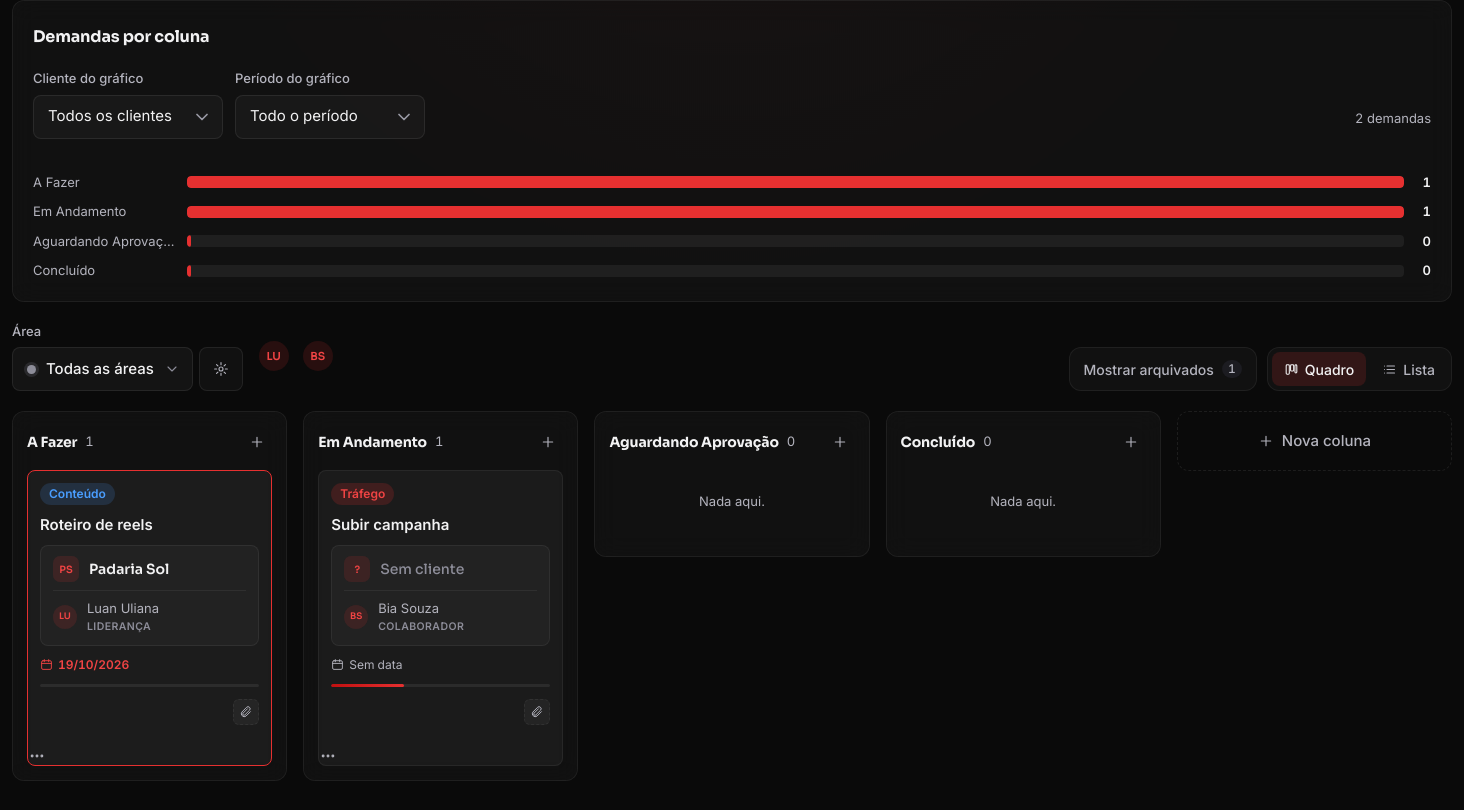
Test: DemandasPage › filtra por tipo e por responsável
Expected: the text "Roteiro de reels" is shown, [40,515,153,534]
What coordinates should you click on to do the following:
click the dropdown labelled "Todas as áreas"
I would click on:
 (102, 369)
Its box is [12,347,193,391].
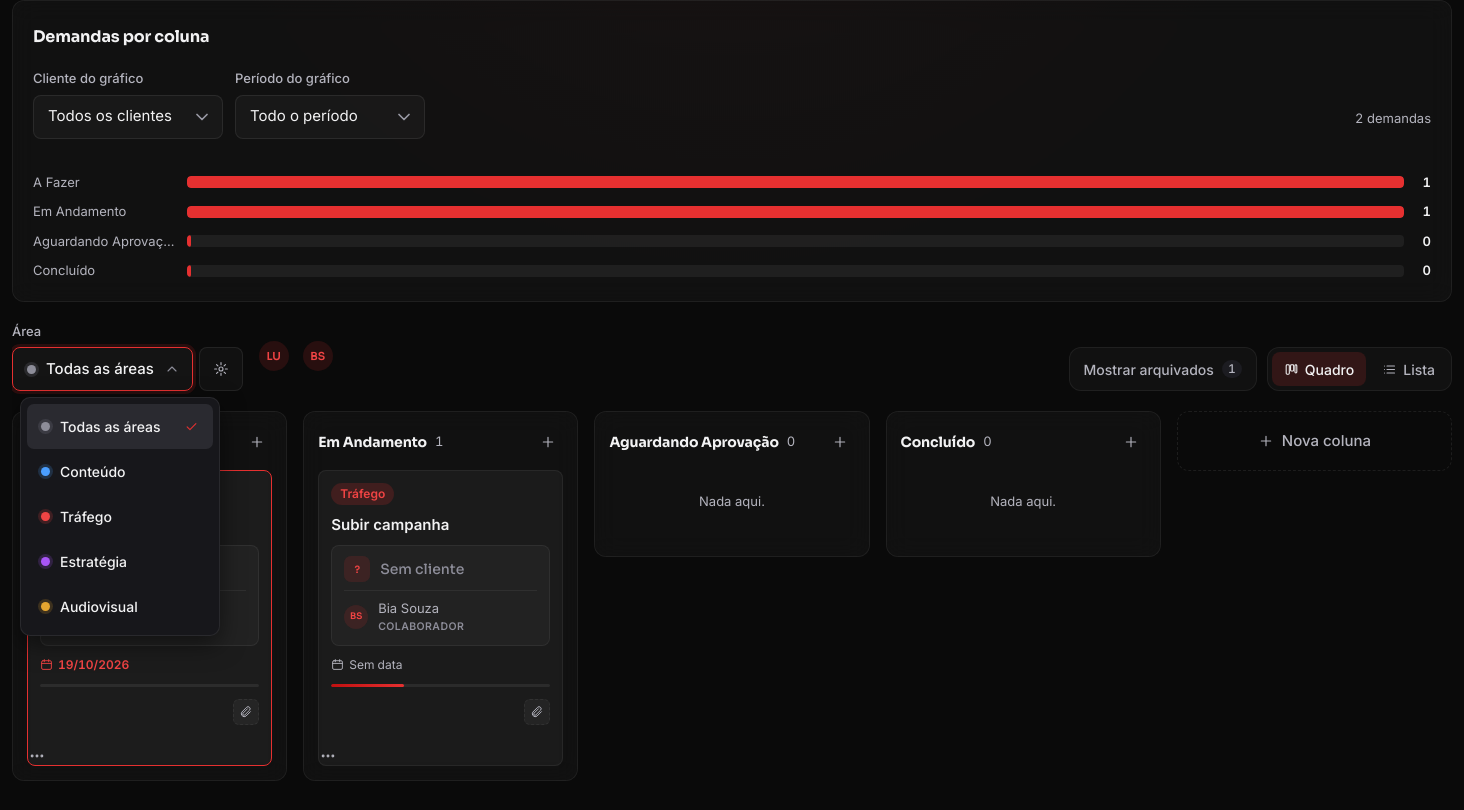
What coordinates should you click on to do the following:
click the option "Tráfego"
I would click on:
 (76, 516)
Its box is [41,508,112,525].
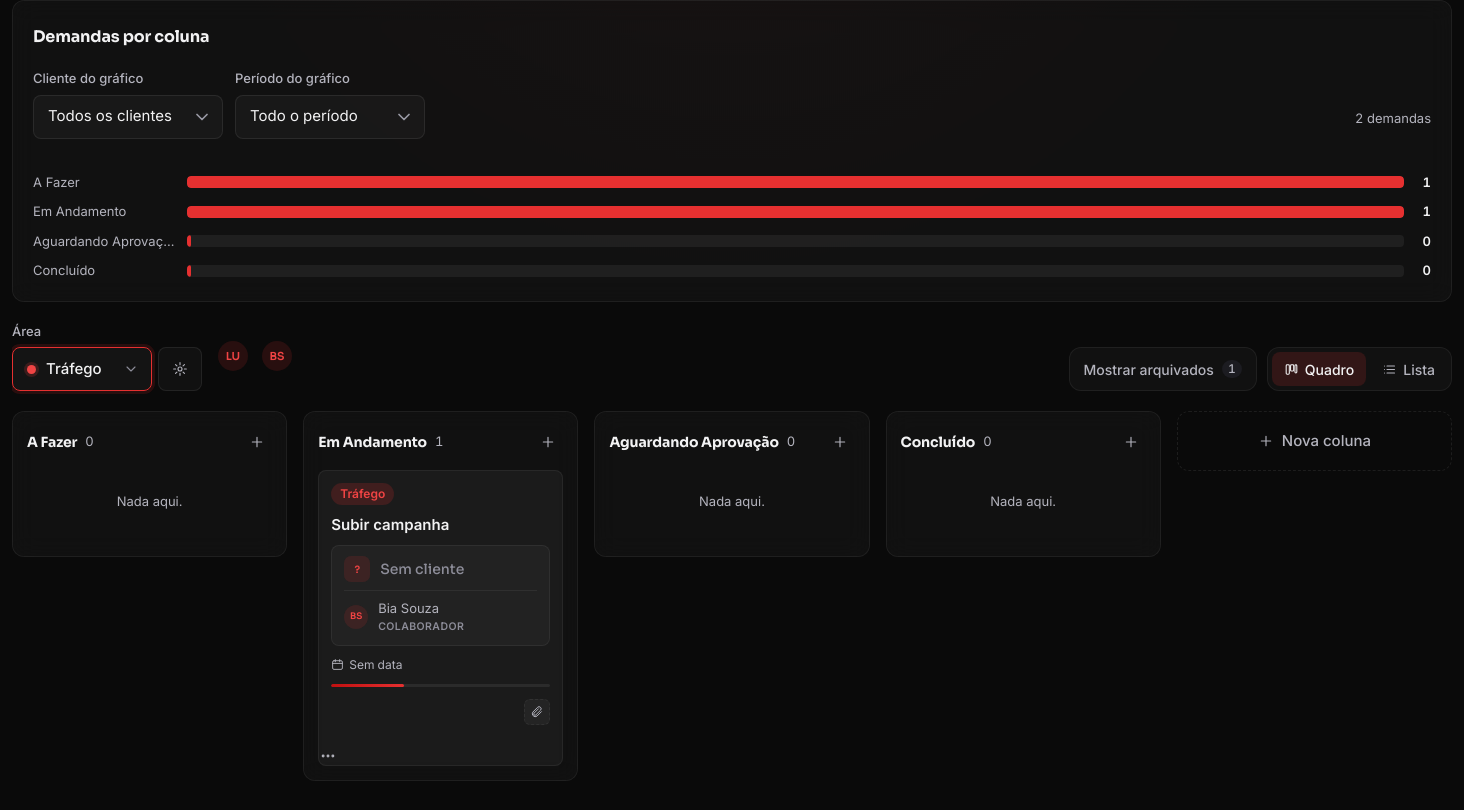
Expected: the text "Subir campanha" is shown, [331,515,449,534]
Now the button "Roteiro de reels" is gone
What coordinates should you click on to do the following:
click the button with aria-label "Luan Uliana, Liderança"
I would click on:
 (233, 356)
Its box is [214,337,252,375].
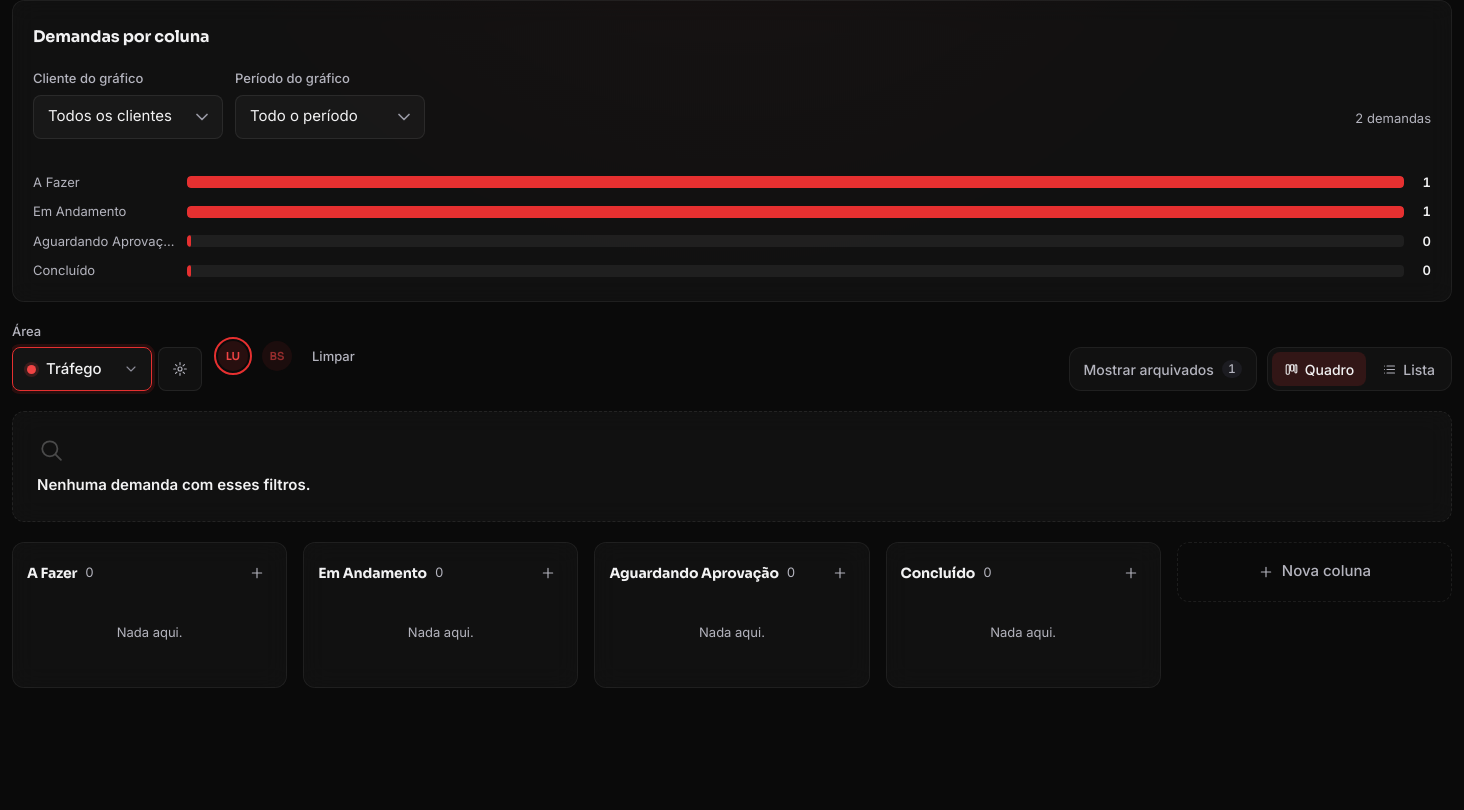
Now the button "Subir campanha" is gone
Now the text "Nenhuma demanda com esses filtros." is shown, box [37,474,310,496]
